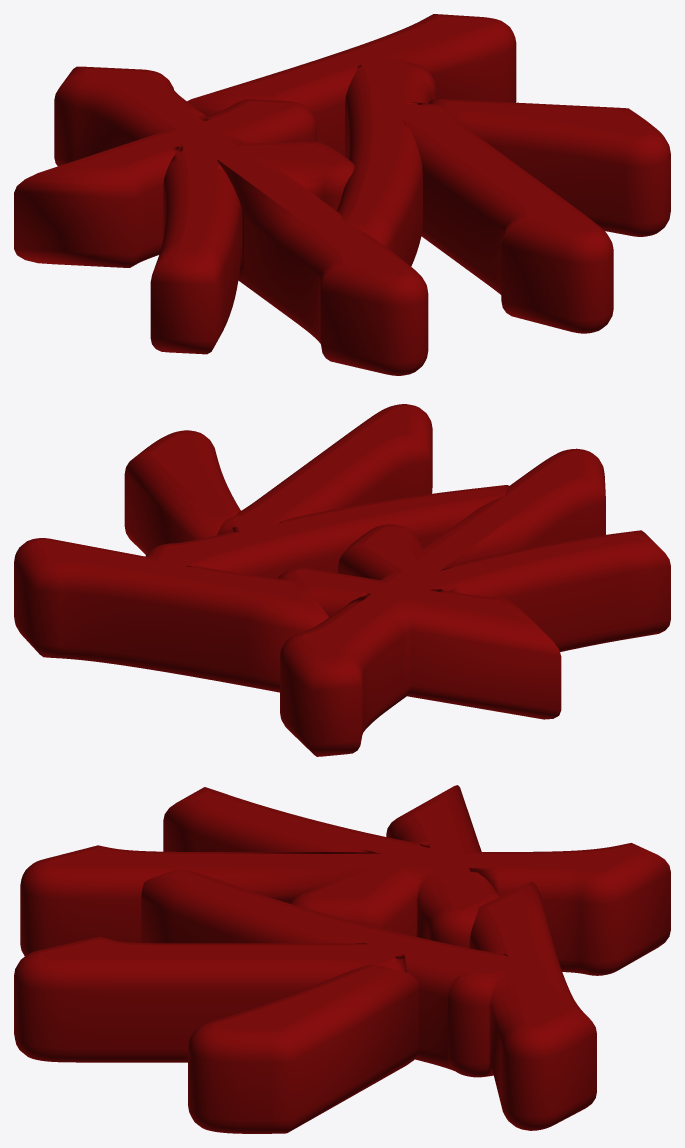
File: bei.fbx
3 views of the same model, one above another, from view 1: azimuth 30°, elevation 25°; view 2: azimuth 150°, elevation 25°; view 3: azimuth 270°, elevation 25° (orthographic). The views are drawn at different scales.
Visible parts, largest first — view 1: Text; view 2: Text; view 3: Text.
Boxes of the visible parts, x1,y1,x2,y2 form: Text: (14,14,670,375); Text: (14,404,670,756); Text: (14,785,670,1133).
Size of the model in its own units: 80.34 by 14 by 82.66.
